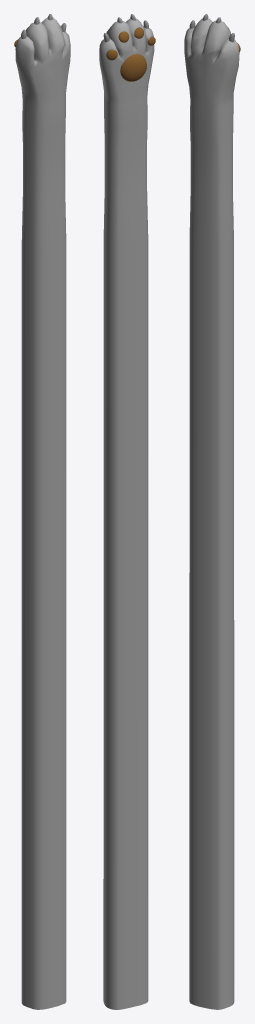
Rendered from SM_Paw_01a.fbx.
The picture shows the model from 3 angles, left to right: view 1: azimuth 30°, elevation 25°; view 2: azimuth 210°, elevation 25°; view 3: azimuth 330°, elevation 25°; orthographic projection.
Visible parts, largest first — view 1: SM_Paw_01a; view 2: SM_Paw_01a; view 3: SM_Paw_01a.
Part boxes in pixels (left/top/right/bottom): SM_Paw_01a: left=14, top=14, right=70, bottom=1009; SM_Paw_01a: left=99, top=14, right=155, bottom=1009; SM_Paw_01a: left=184, top=14, right=240, bottom=1009.
Bounding box in the file's own units: 29.2 × 520 × 18.83.
